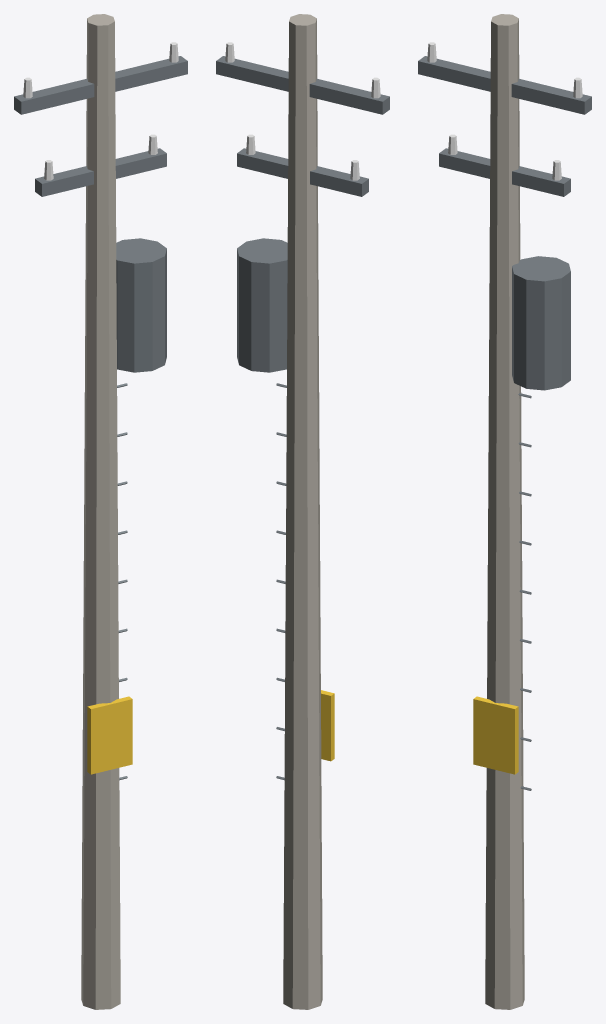
Rendered from UtilityPole.fbx.
3 renders of one model, left to right at view 1: azimuth 30°, elevation 25°; view 2: azimuth 150°, elevation 25°; view 3: azimuth 330°, elevation 25°, orthographic.
Visible parts, largest first — view 1: UtilityPole; view 2: UtilityPole; view 3: UtilityPole.
Part boxes in pixels (bbox=[...]): UtilityPole: bbox=[14, 14, 187, 1009]; UtilityPole: bbox=[216, 14, 389, 1009]; UtilityPole: bbox=[418, 14, 591, 1009].
Bounding box in the file's own units: 1.6 × 9 × 0.5.
